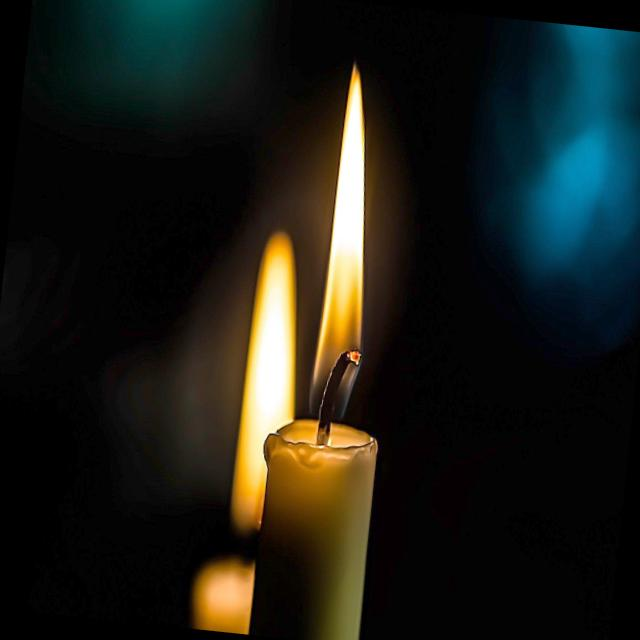Fire_Save: (306, 60, 392, 422), (225, 227, 314, 537)
